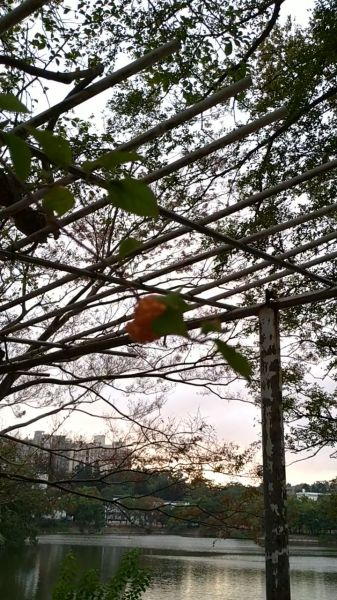eggs: (121, 292, 174, 346)
